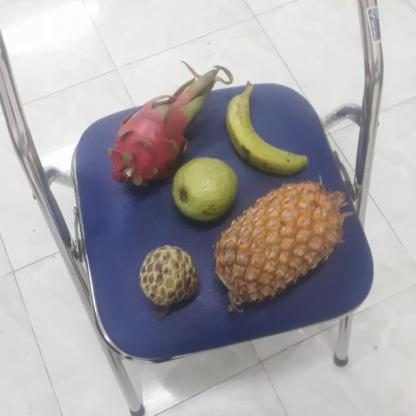annona: (141, 245, 204, 308)
banana: (226, 88, 312, 176)
guava: (172, 158, 241, 225)
pineapple: (216, 181, 351, 308)
pitaya: (112, 84, 216, 186)
